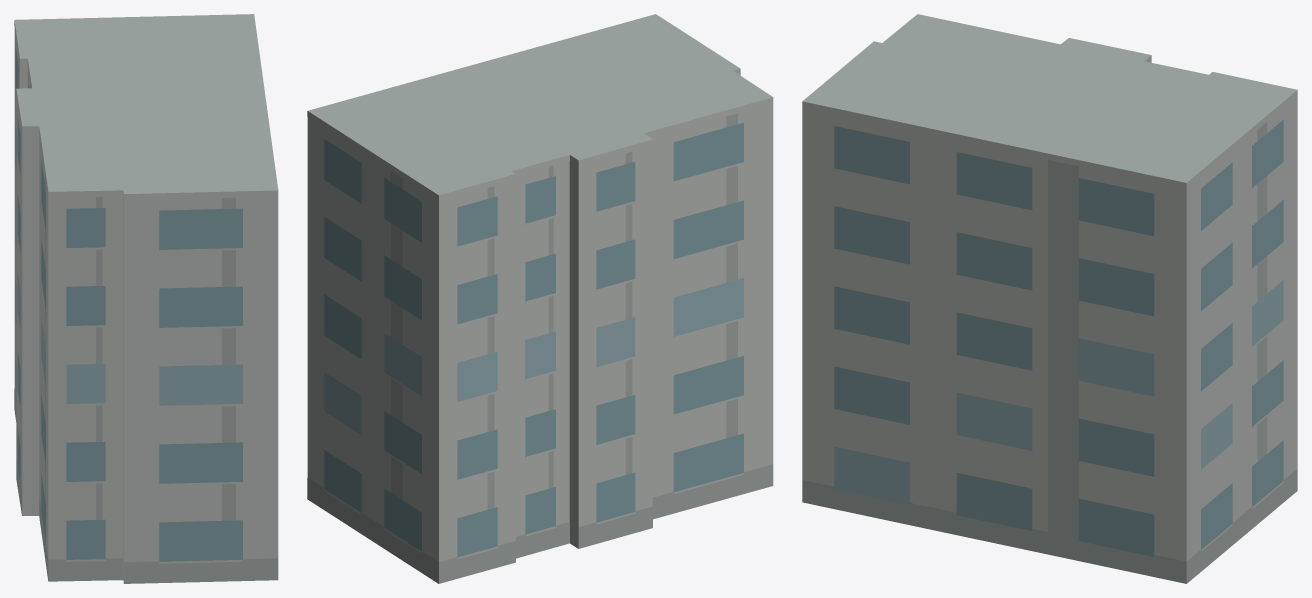
The model's file is survey-upis-32541982.glb.
The picture shows the model from 3 angles, left to right: view 1: azimuth 30°, elevation 25°; view 2: azimuth 150°, elevation 25°; view 3: azimuth 270°, elevation 25°; orthographic projection. The views are drawn at different scales.
Visible parts, largest first — view 1: survey-upis-32541982.tmp; view 2: survey-upis-32541982.tmp; view 3: survey-upis-32541982.tmp.
Boxes of the visible parts, left/top/right/bottom form: survey-upis-32541982.tmp: left=14, top=14, right=278, bottom=583; survey-upis-32541982.tmp: left=307, top=14, right=773, bottom=583; survey-upis-32541982.tmp: left=802, top=14, right=1297, bottom=583.
Size of the model in its own units: 13.88 by 15.35 by 17.2.
